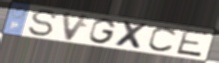C: (146, 25, 179, 53)
E: (175, 28, 211, 58)
G: (87, 17, 118, 45)
S: (27, 8, 59, 38)
V: (61, 10, 93, 42)
X: (113, 19, 151, 51)
